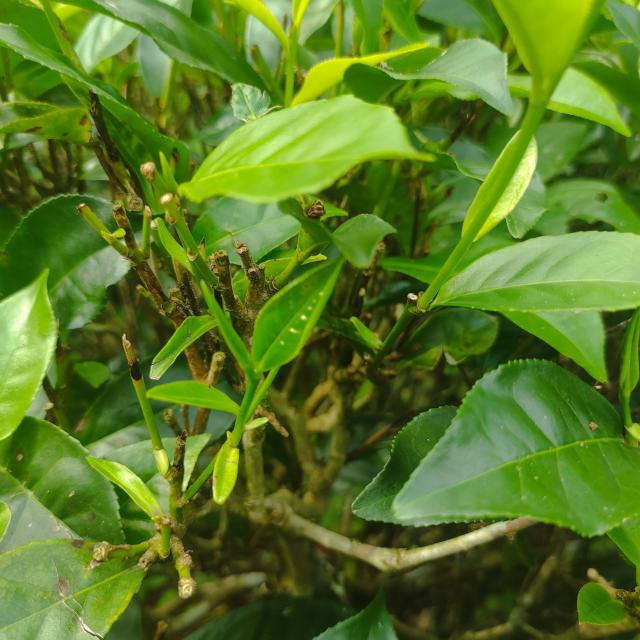unopened_leaf: (195, 275, 258, 377), (156, 144, 190, 202)
